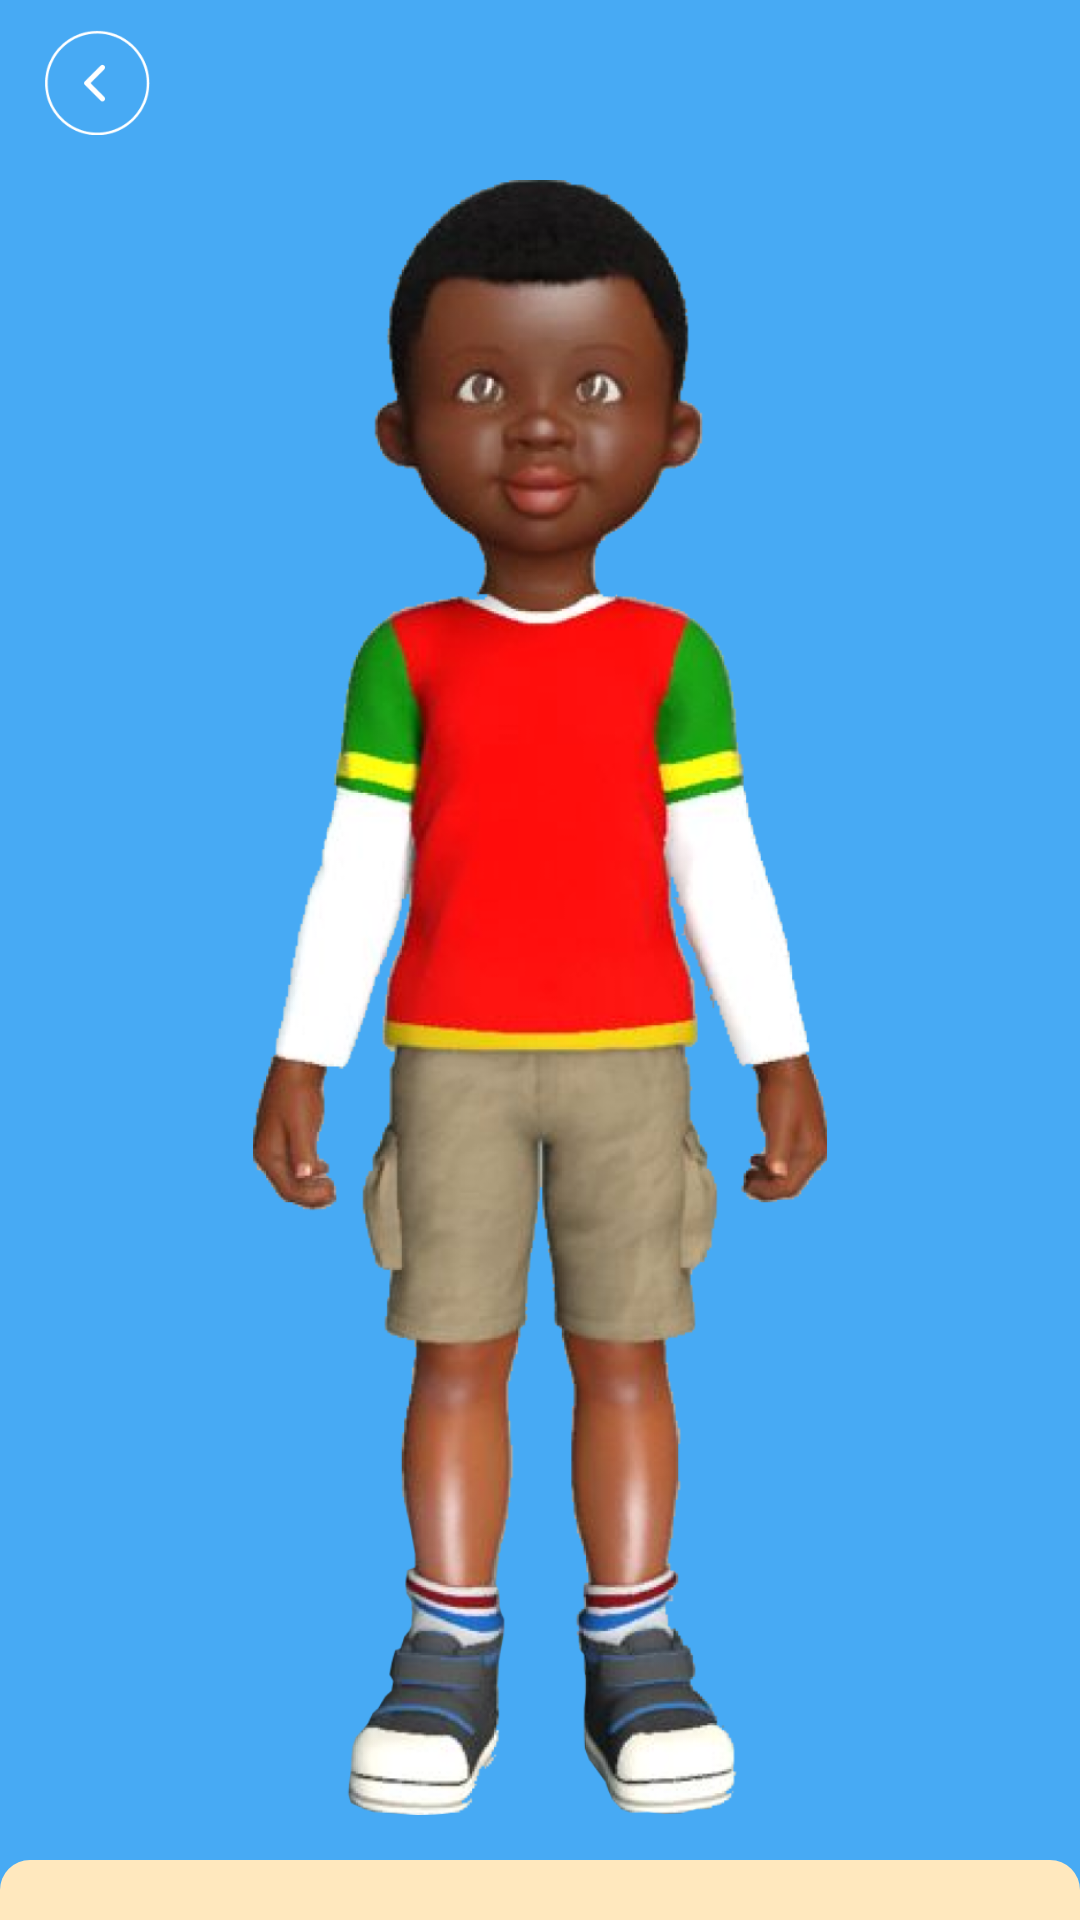

Screen size 1080x1920. Icon name, then its center in pixels as (x=x, y=y):
back: (x=97, y=83)
